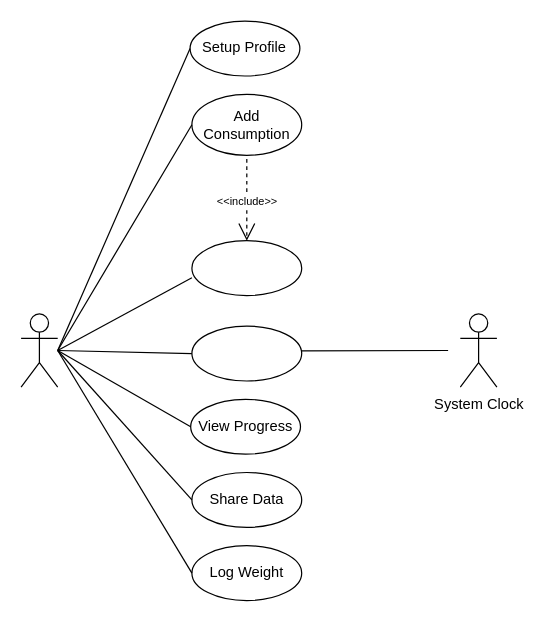
Some shapes in this 544 by 622 pixel diagram are drawn without their labels. Each missing label, with the centre of its shape:
"Add Item" belongs at pixel 246 267.
"Set Alerts" belongs at pixel 246 353.
"User" belongs at pixel 39 350.
